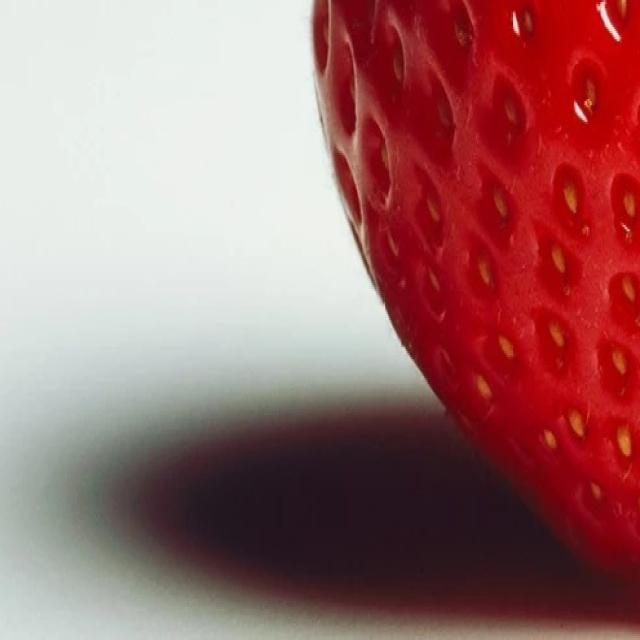strawberry: (298, 0, 640, 626)
